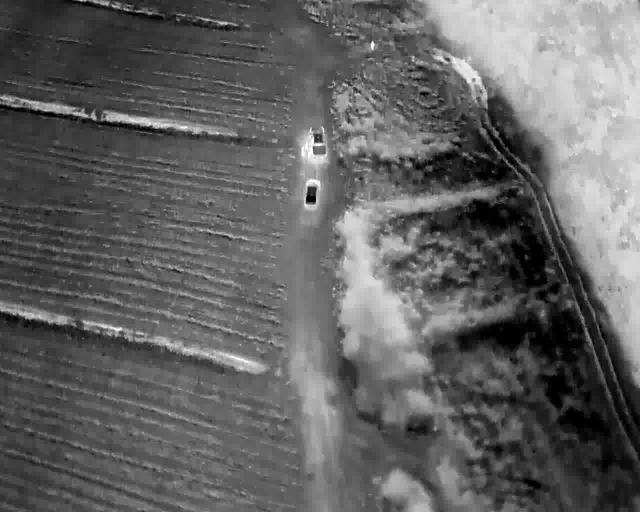car: (310, 124, 326, 159), (304, 179, 320, 207)
person: (370, 40, 375, 50), (300, 146, 305, 156)
